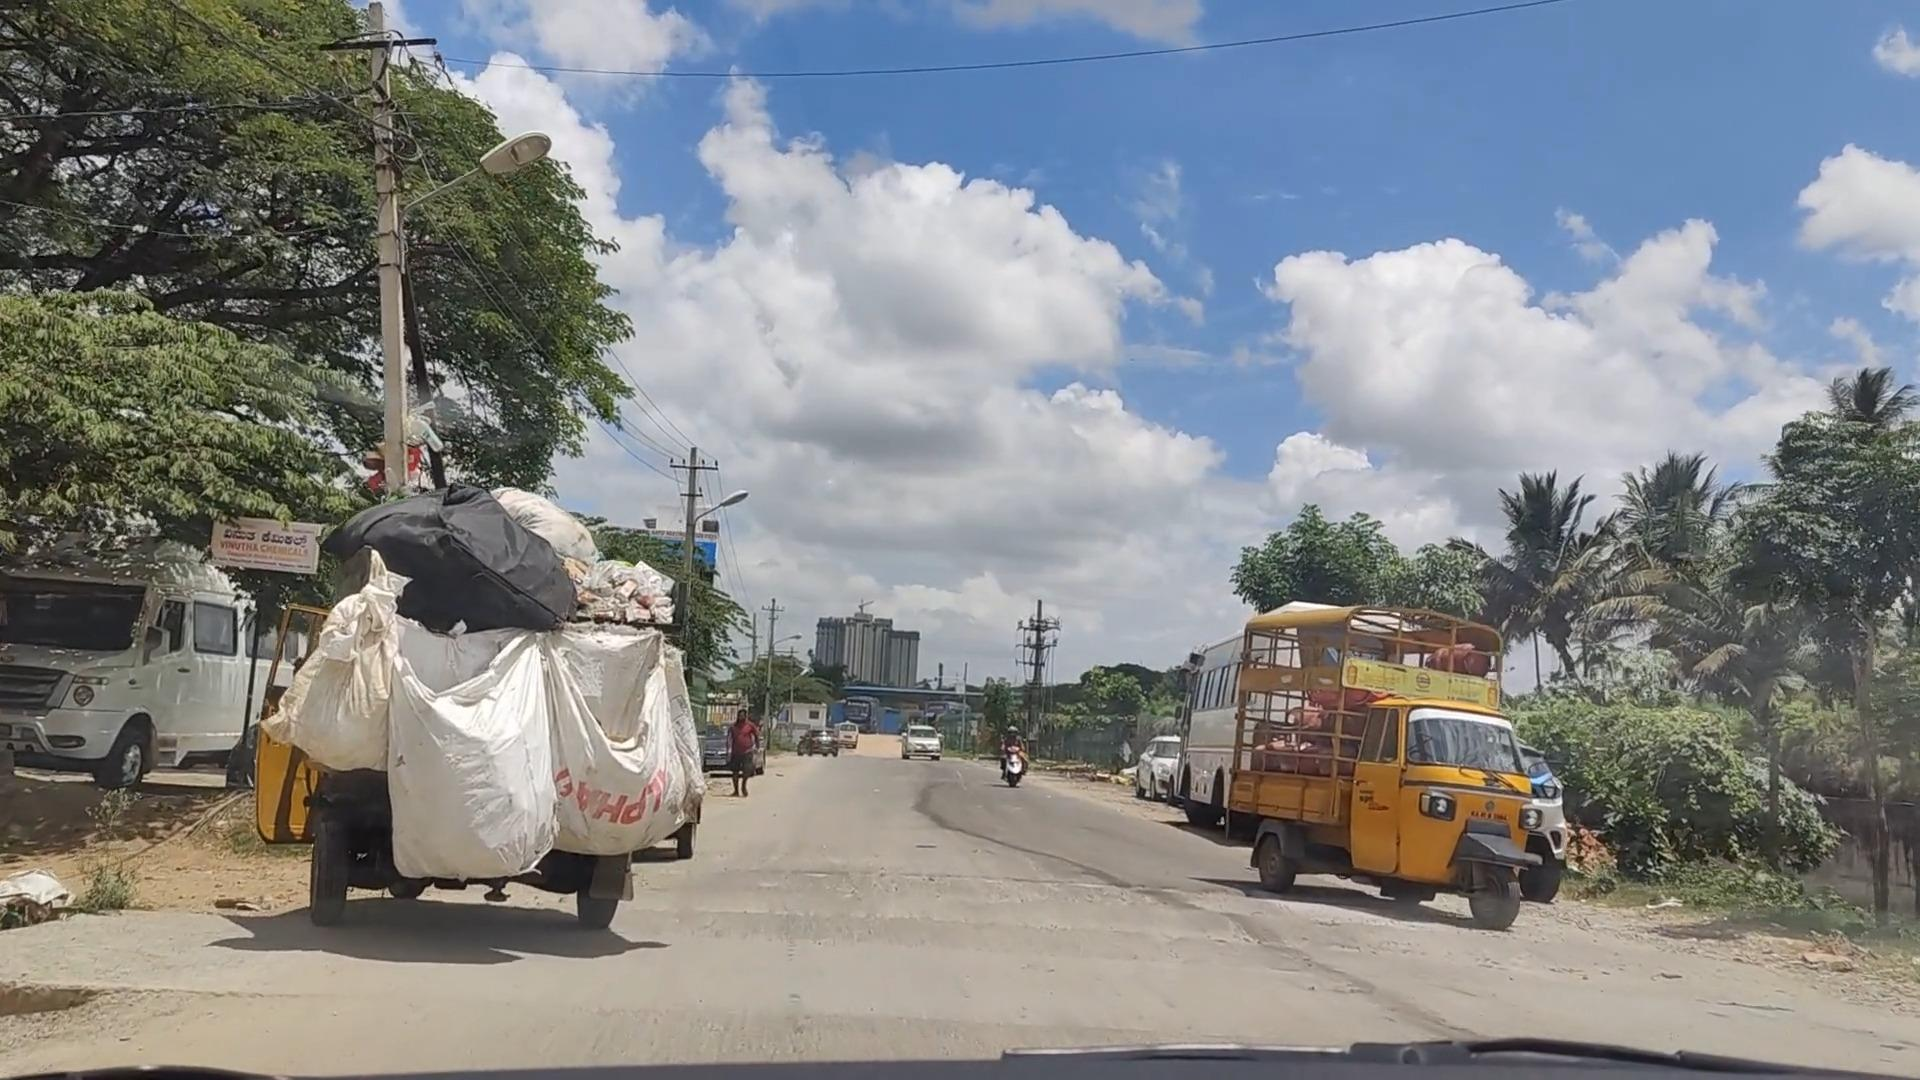HMV: (301, 521, 698, 936), (1191, 578, 1580, 964)
RoadDamages: (733, 853, 1129, 947)
